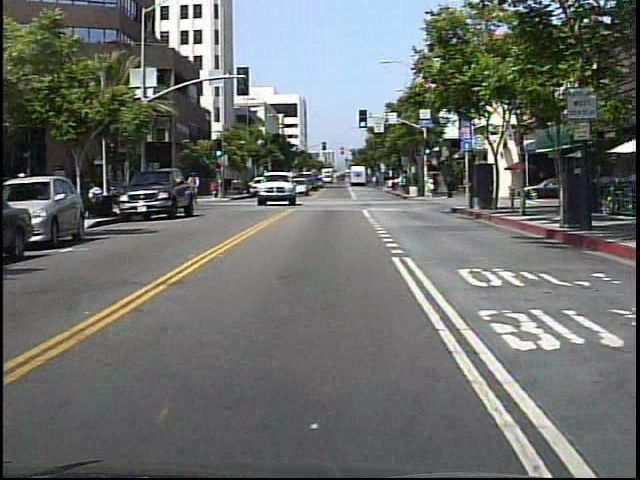person: (185, 170, 206, 202), (444, 171, 459, 203), (426, 177, 438, 200), (210, 176, 220, 200)
